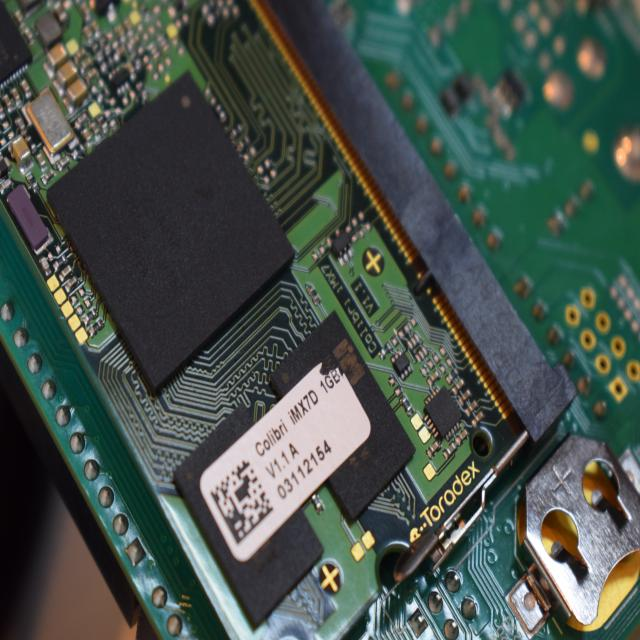som: (1, 1, 538, 640)
